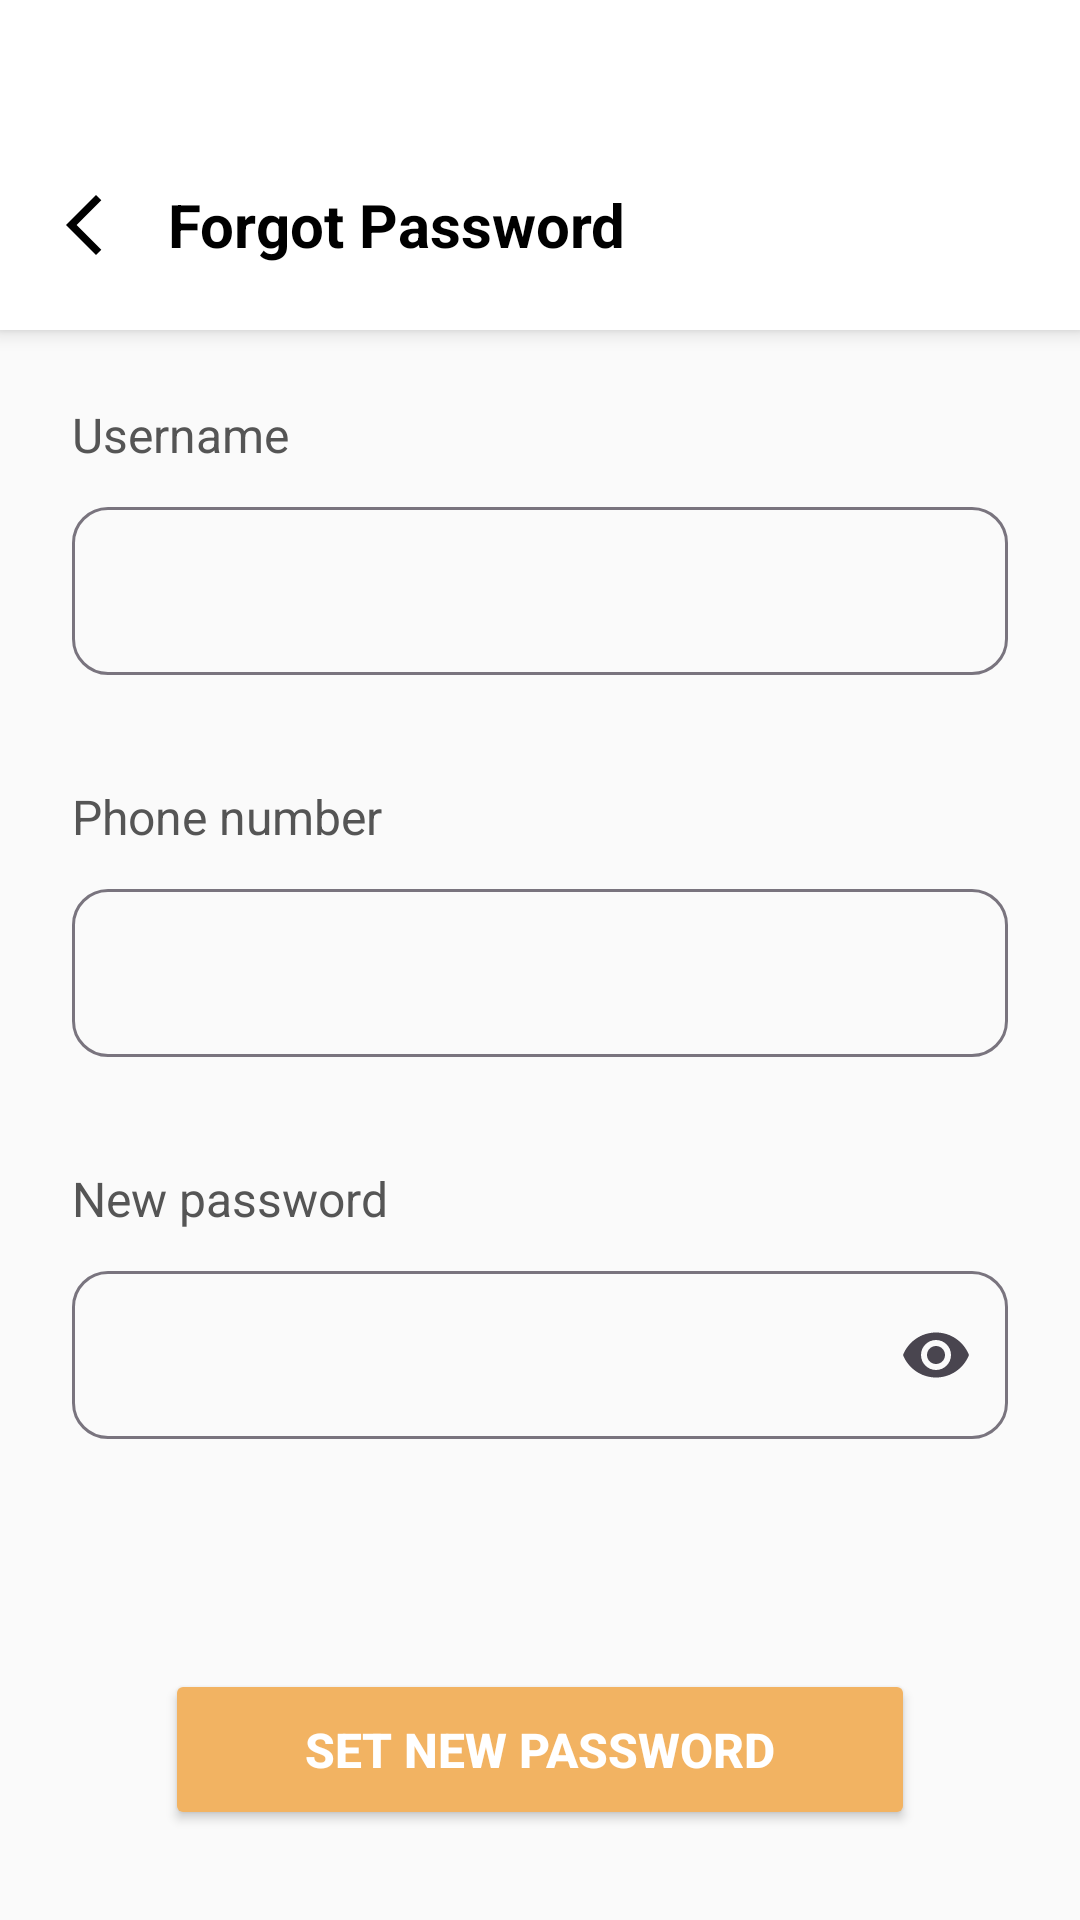

Named icons in this screenshot (1080px x 1920px) and their bounding boxes, (x1, y1, x2, y2):
Back: (66, 195, 101, 255)
